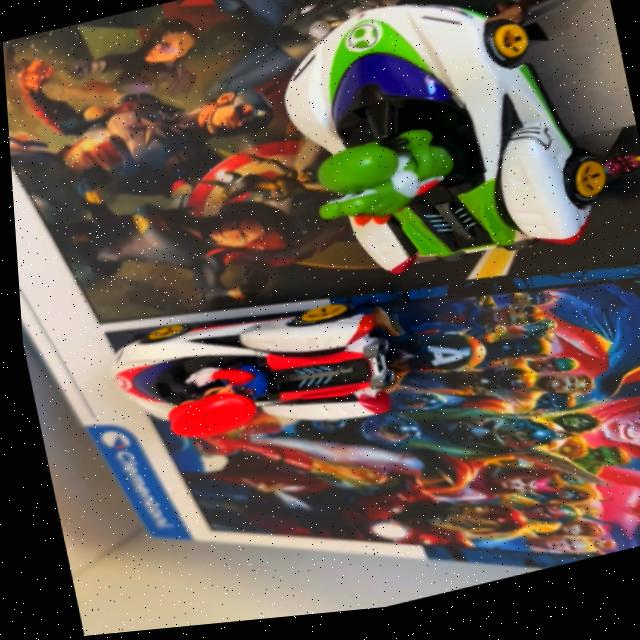mario: (73, 262, 444, 493)
yoshi: (233, 0, 640, 337)
